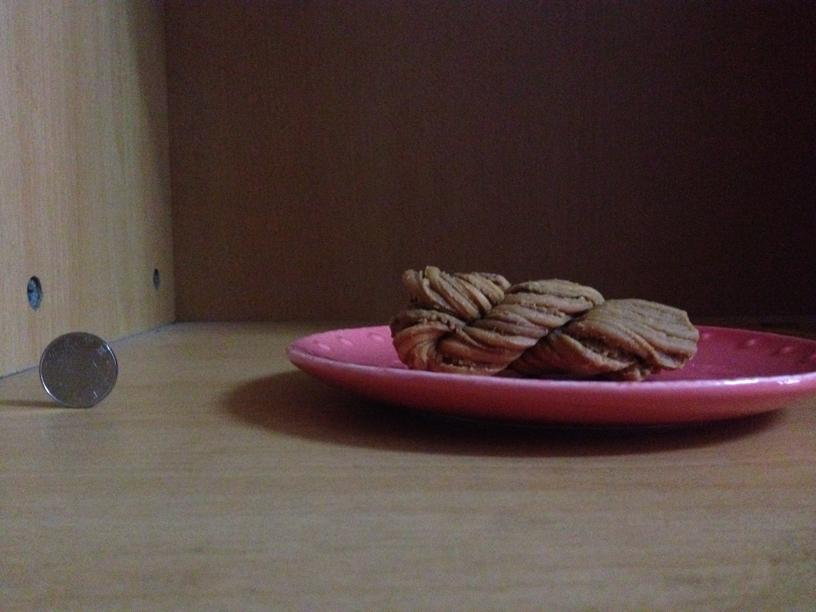coin: (36, 330, 118, 407)
fired_dough_twist: (388, 259, 700, 378)
